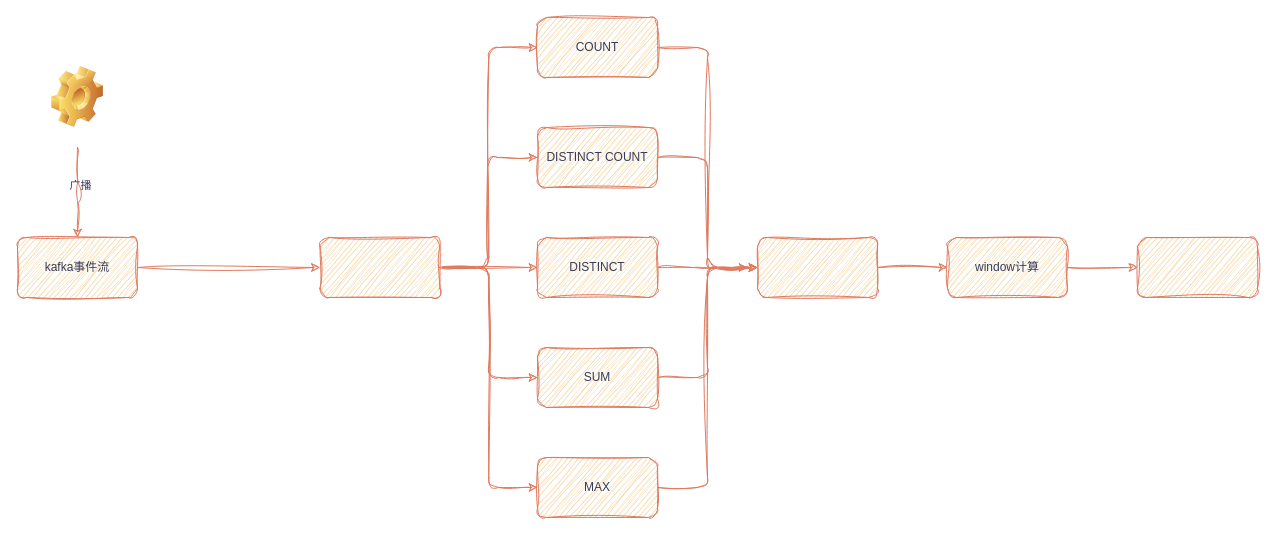
The diagram is 1275 pixels wide and 535 high, and some of its shapes have lost their labels. Here are the shapes that lost their labels. From the top down, the box of each, then its label:
(51, 66, 103, 127): 累计因子配置信息
(319, 236, 440, 298): 事件流结合广播流对数据按照计算类型分类
(756, 236, 878, 298): keyBy(按照不同维度分组)
(1136, 236, 1258, 298): 写入redis
